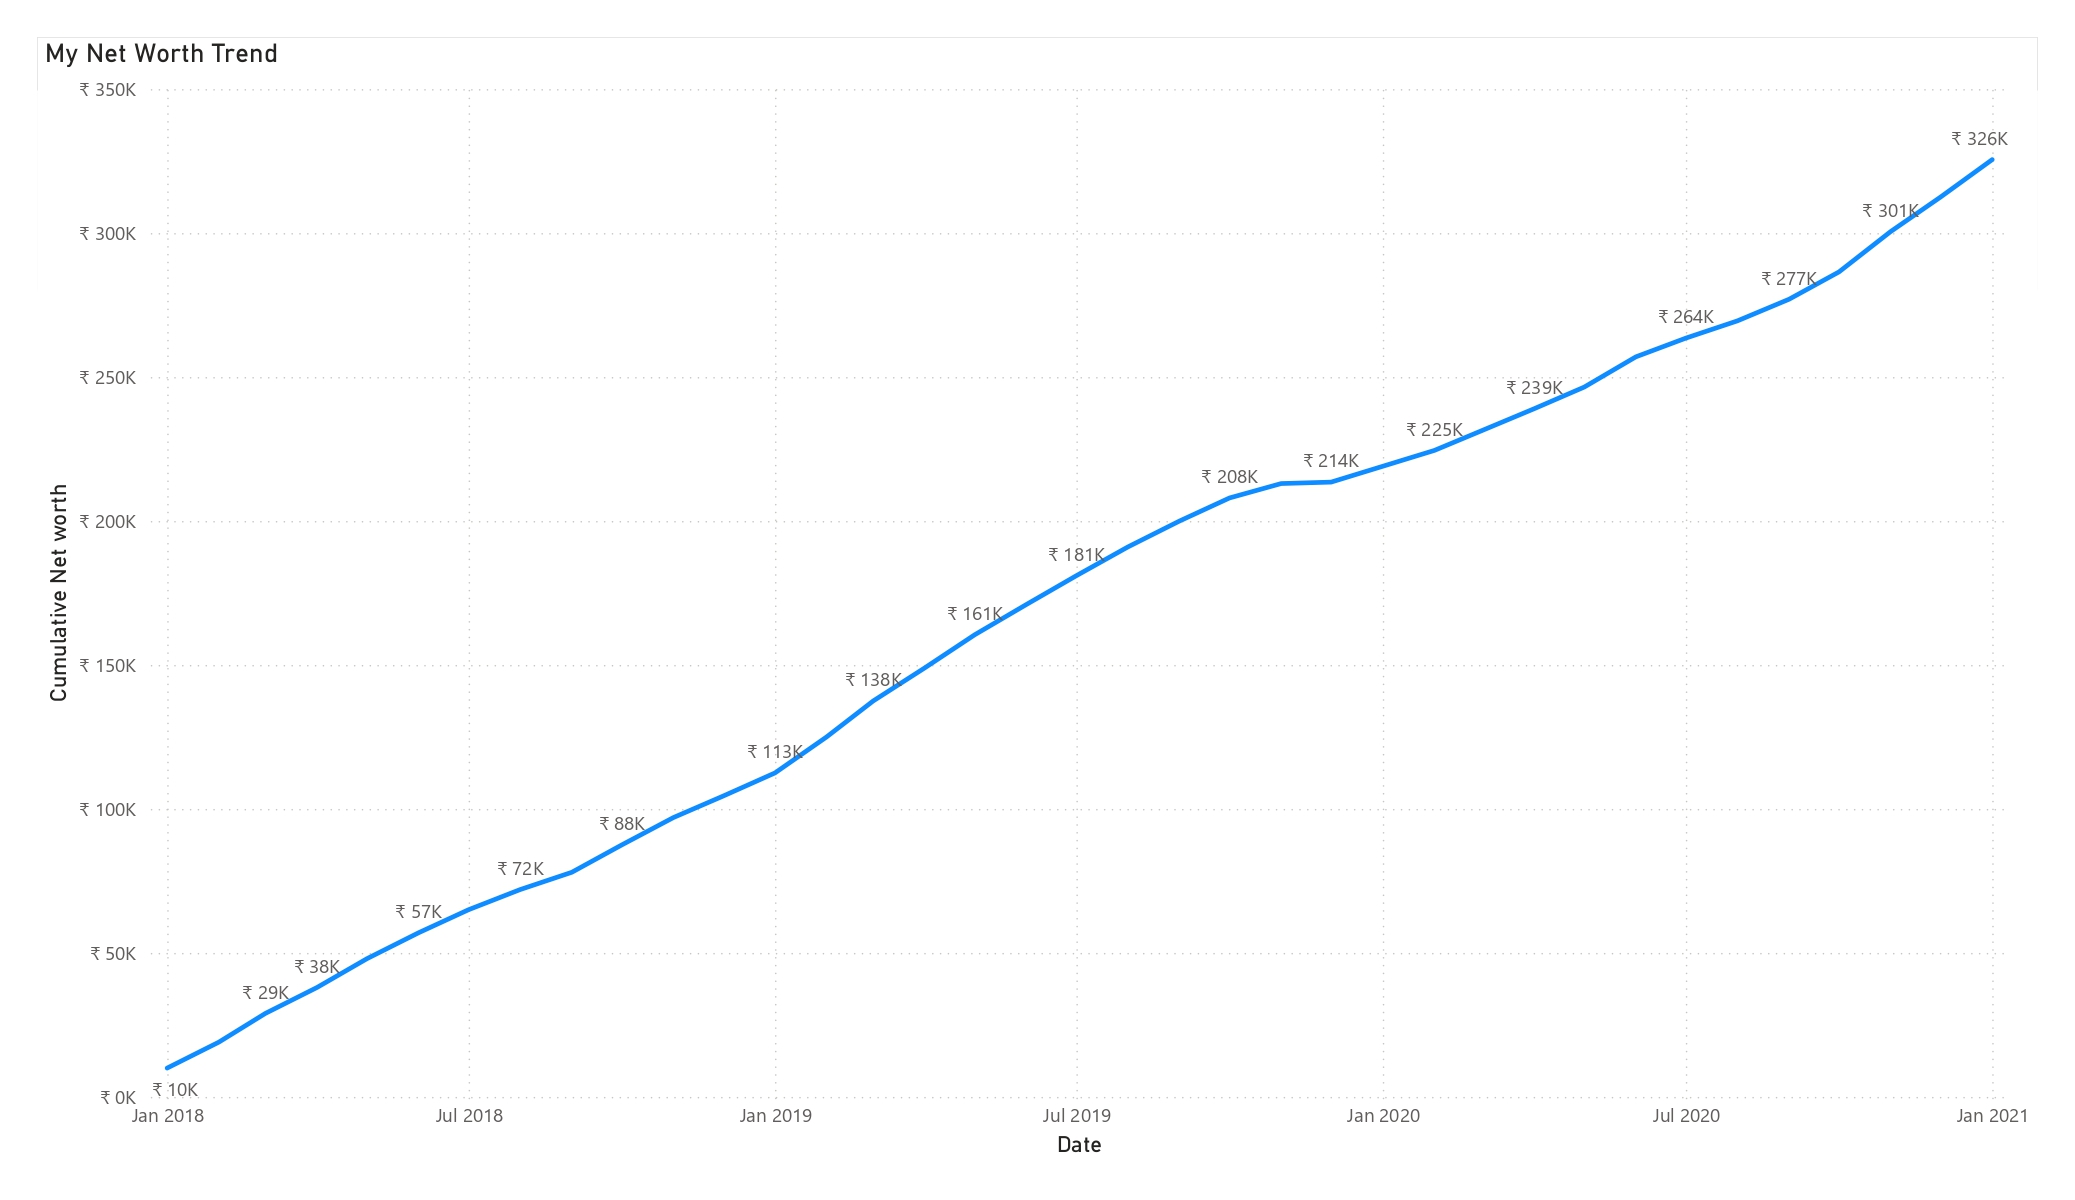

This screenshot's page, from the dashboard's own definition file:
{"tool":"powerbi","page":{"name":"Page 2","canvas":[1280,720],"ordinal":1},"visuals":[{"type":"lineChart","title":"My Net Worth Trend","fields":{"Category":["FinData.Date"],"Y":["Table.Cumulative Net worth"]},"box":[0,0,1280.5,720.7],"z":0}]}

Visuals, with their boxes on the page's 1280x720 design canvas (x1, y1, x2, y2). These are canvas units, not pixel positions in the 2075x1200 screenshot, which may show the page scaled, cropped or inside an application window:
"My Net Worth Trend" lineChart: 0/0/1280/721
